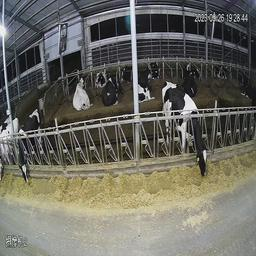cow: (159, 80, 211, 187), (14, 106, 44, 188), (70, 74, 93, 120), (100, 73, 125, 111), (138, 64, 155, 107), (184, 63, 200, 97), (239, 67, 255, 98), (211, 58, 229, 83), (94, 67, 107, 86)
